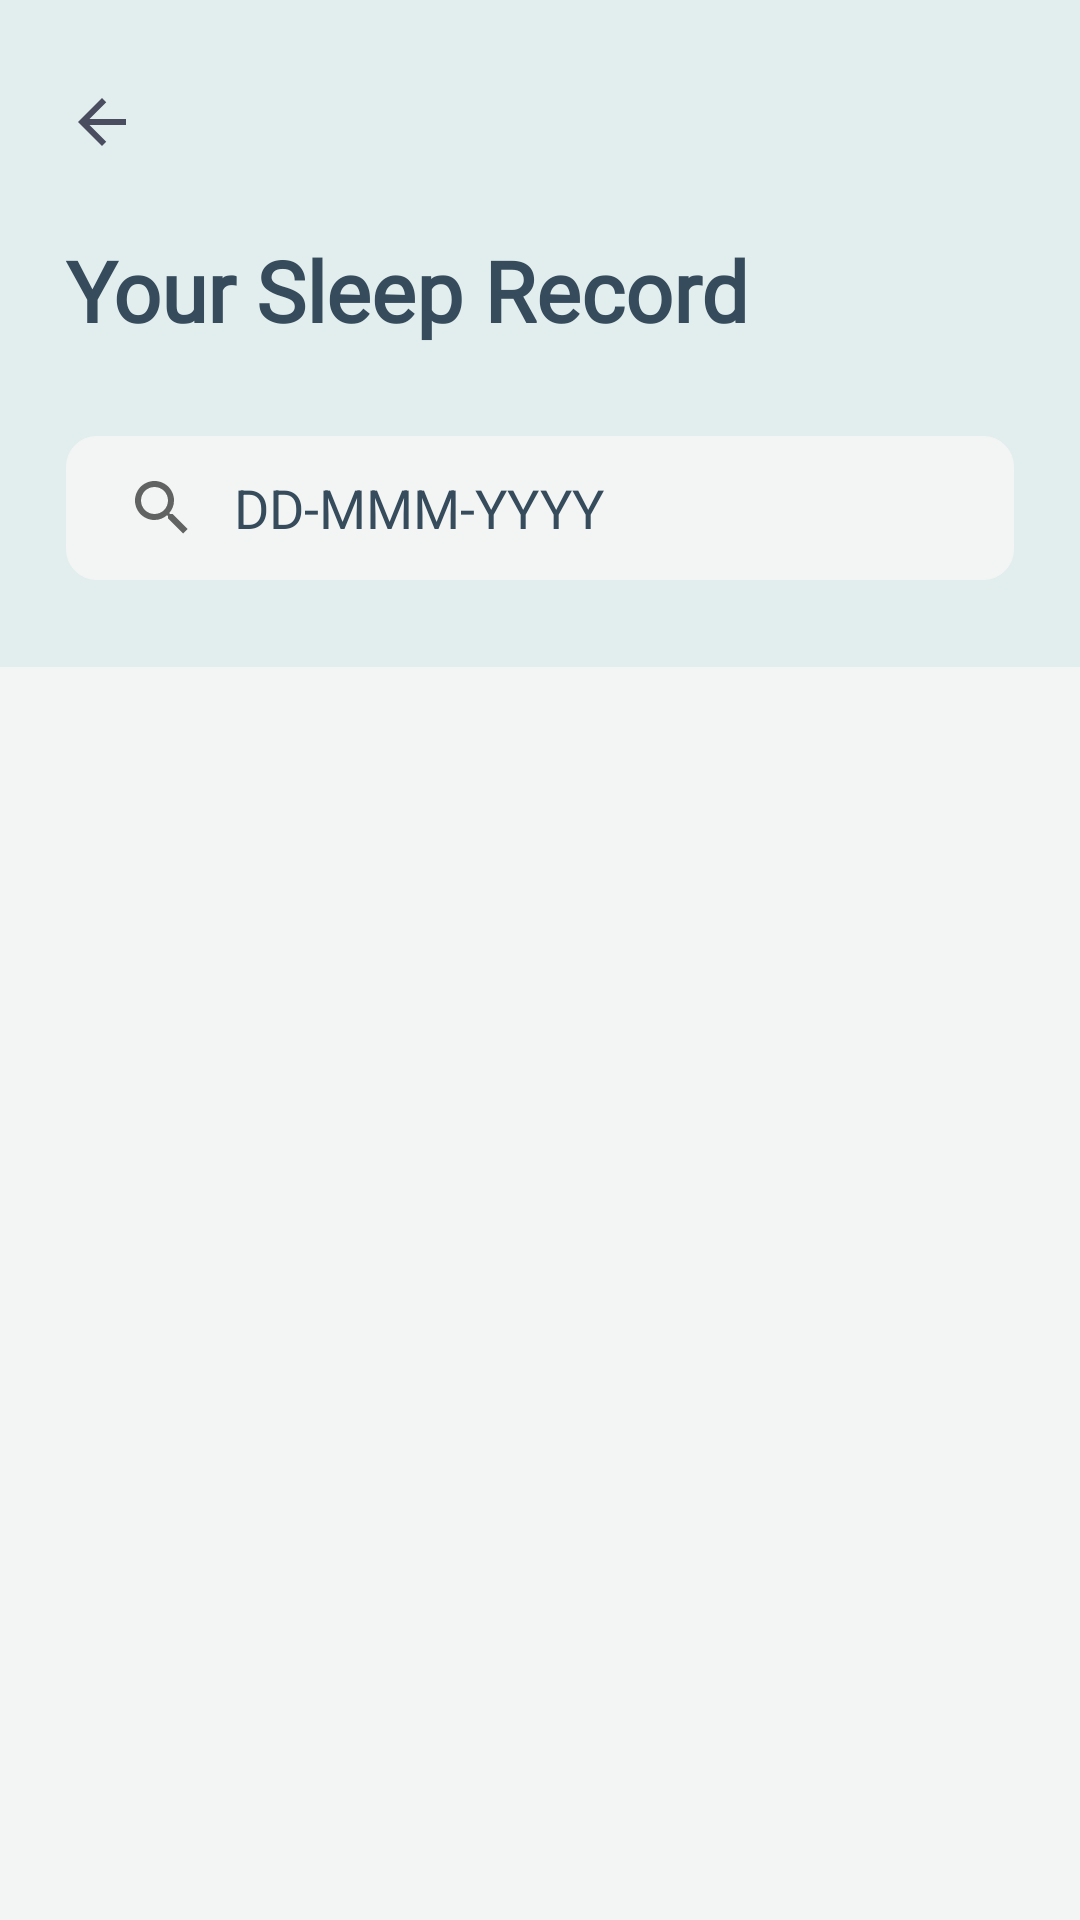

Named icons in this screenshot (1080x1920) and their bounding boxes, bbox=(x1, y1, x2, y2):
back: bbox=(78, 98, 126, 146)
